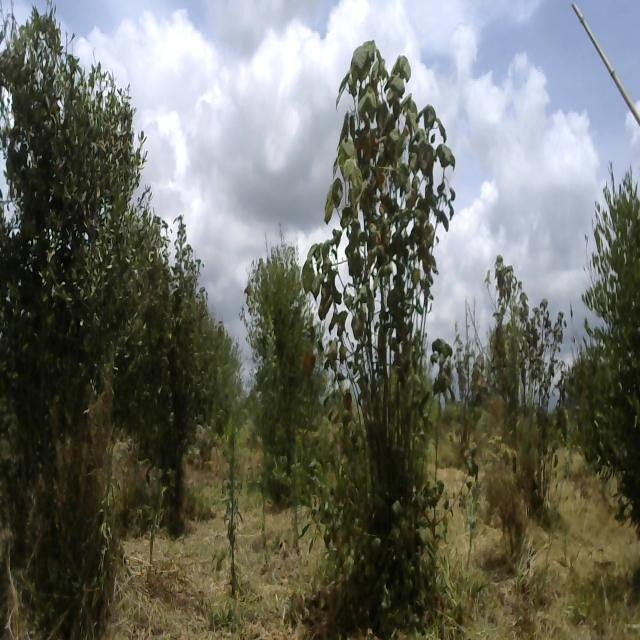Salix alba: (0, 19, 146, 568), (575, 158, 640, 539), (240, 232, 326, 506)
other: (305, 43, 461, 638), (127, 203, 210, 519)
